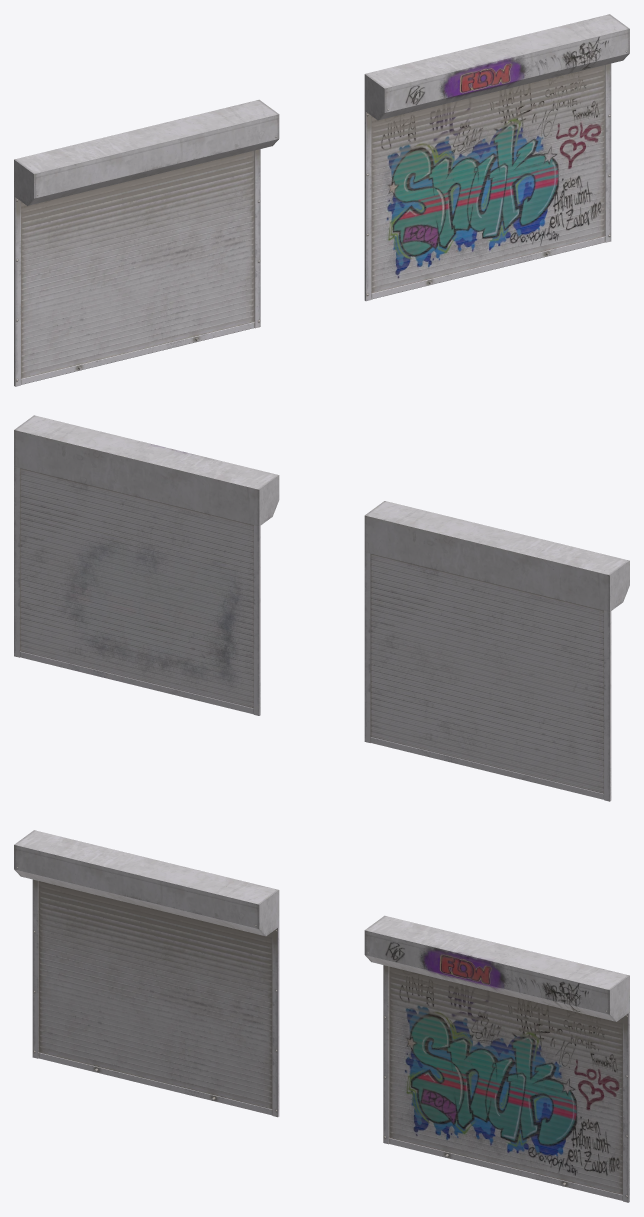
The model's file is rollershutter_window_01.gltf.
3 views of the same model, one above another, from view 1: azimuth 30°, elevation 25°; view 2: azimuth 150°, elevation 25°; view 3: azimuth 330°, elevation 25° (orthographic).
Visible parts, largest first — view 1: rollershutter_window_01_graffiti, rollershutter_window_01; view 2: rollershutter_window_01, rollershutter_window_01_graffiti; view 3: rollershutter_window_01, rollershutter_window_01_graffiti.
Boxes of the visible parts, x1,y1,x2,y2 form: rollershutter_window_01_graffiti: (364, 14, 629, 301); rollershutter_window_01: (14, 99, 279, 386); rollershutter_window_01: (364, 501, 629, 801); rollershutter_window_01_graffiti: (14, 415, 279, 715); rollershutter_window_01: (14, 830, 279, 1117); rollershutter_window_01_graffiti: (364, 915, 629, 1202).
Size of the model in its own units: 5.1 by 1.85 by 0.3001.
2 materials, 2 textured.
